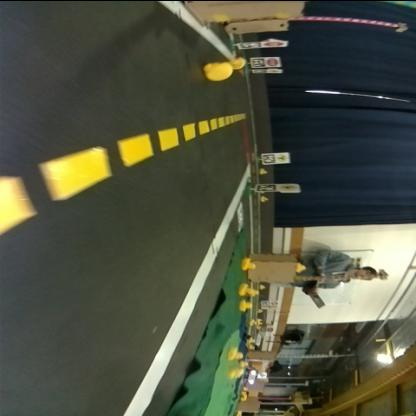Duckie: (205, 60, 233, 78), (242, 257, 256, 268), (229, 347, 243, 358), (233, 56, 245, 68), (240, 283, 251, 294), (240, 300, 253, 308), (298, 263, 306, 269), (260, 167, 268, 173), (262, 194, 268, 199)
Intersection sign: (280, 183, 296, 189), (277, 153, 289, 160)
QR code: (238, 200, 245, 228), (241, 40, 262, 46), (258, 183, 278, 189), (263, 153, 275, 162), (255, 58, 265, 64)
Stop sign: (264, 40, 284, 46), (268, 56, 280, 65)
